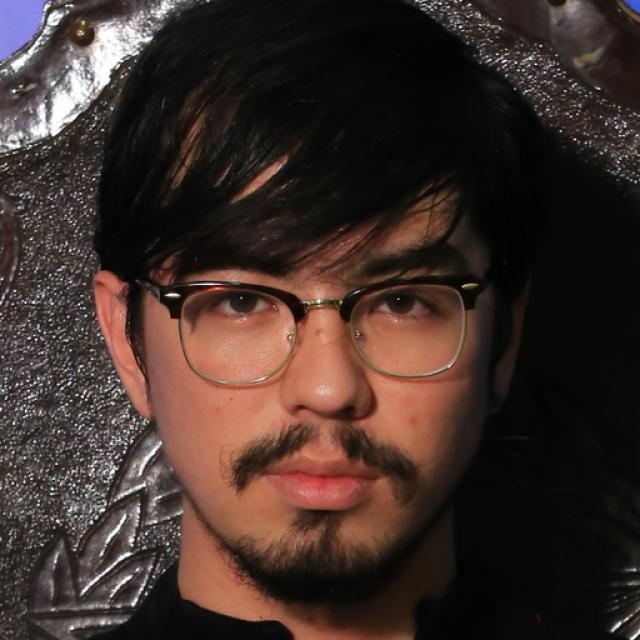anger: (151, 170, 491, 591)
